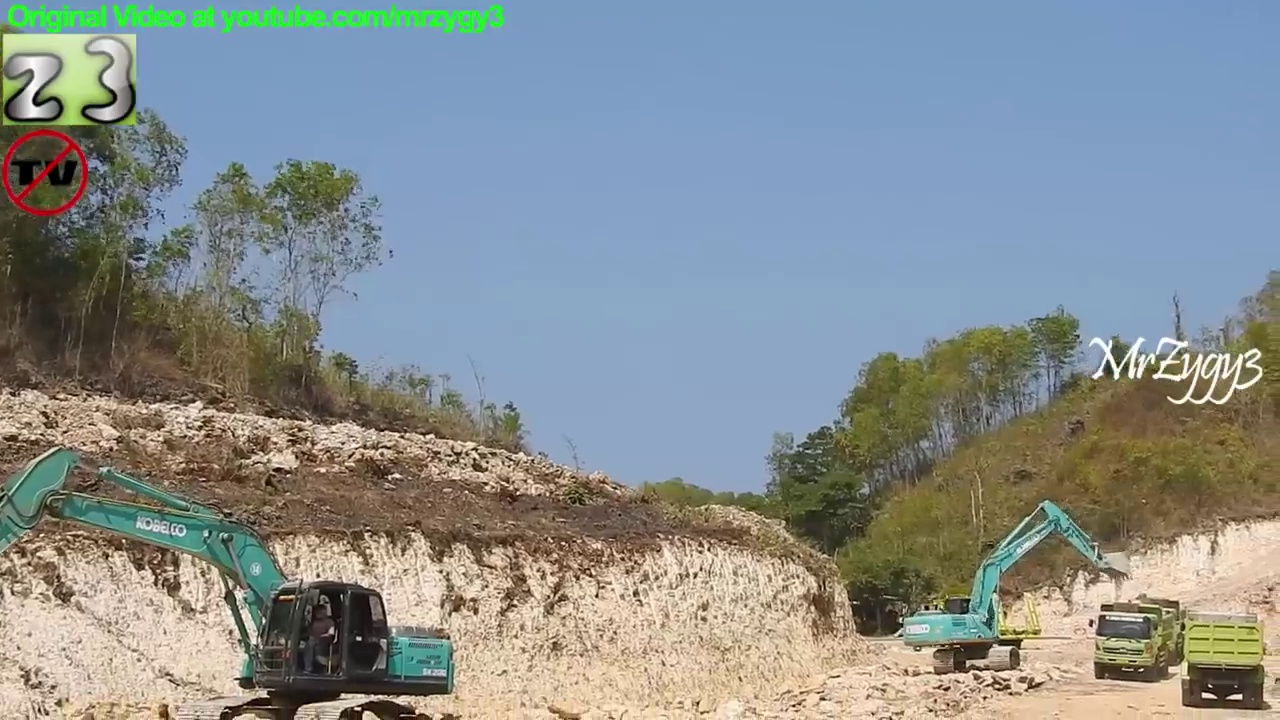excavator: (2, 438, 457, 720), (899, 498, 1134, 674)
truck: (1178, 609, 1271, 713), (1085, 596, 1175, 686), (1113, 592, 1189, 671)
